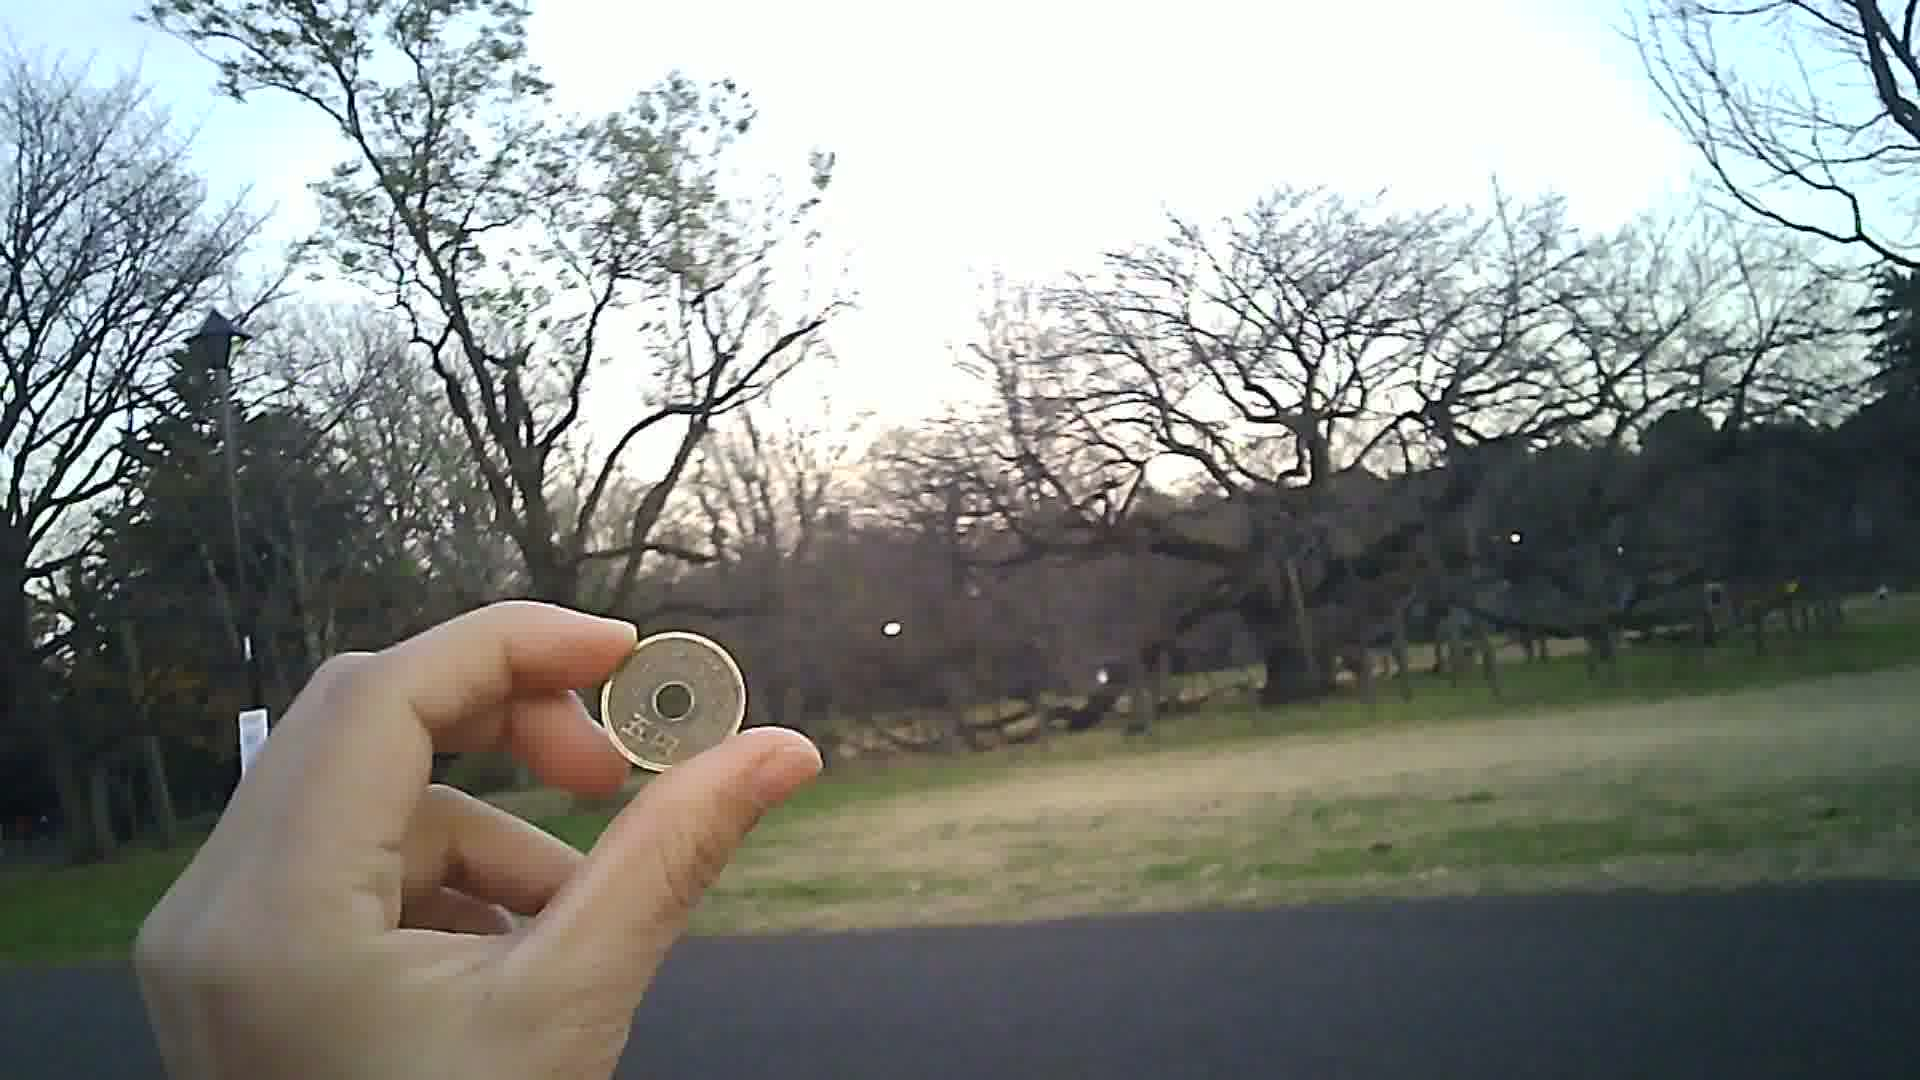5 Yen: (593, 620, 752, 773)
